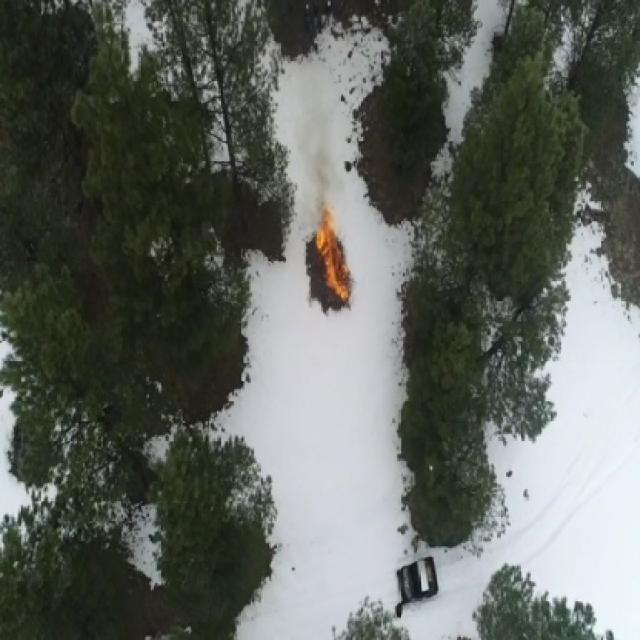Fire: (312, 203, 352, 305)
